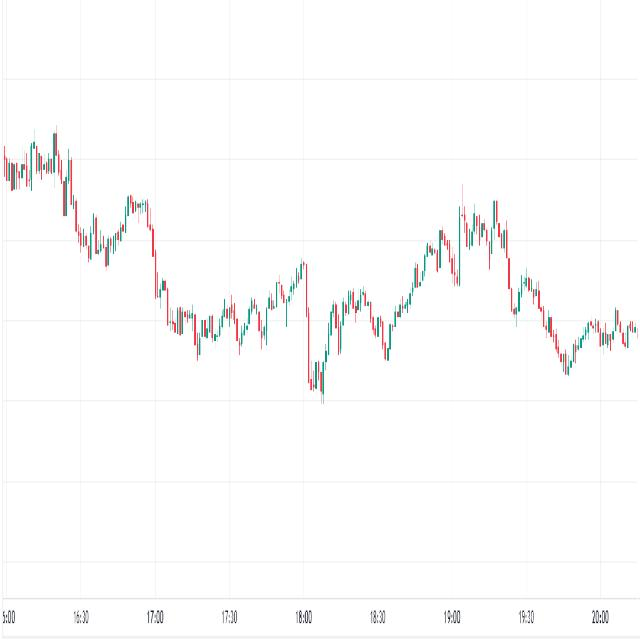Rising-Wedge: (150, 249, 305, 371)
